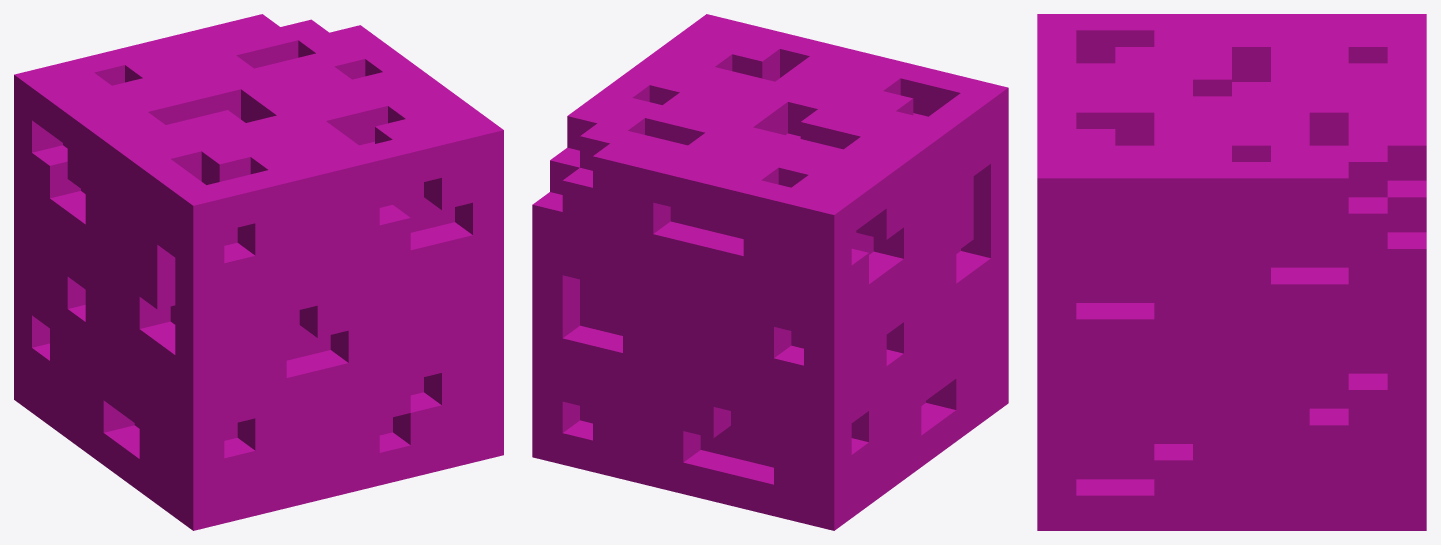
Rendered from corner.glb.
3 views of the same model, side by side, from view 1: azimuth 30°, elevation 25°; view 2: azimuth 150°, elevation 25°; view 3: azimuth 270°, elevation 25° (orthographic). The views are drawn at different scales.
Parts seen in each view (by area): view 1: Cube; view 2: Cube; view 3: Cube.
Part boxes in pixels (left/top/right/bottom): Cube: left=14, top=14, right=503, bottom=530; Cube: left=532, top=14, right=1008, bottom=530; Cube: left=1037, top=14, right=1426, bottom=530.
Size of the model in its own units: 2 by 2 by 2.
1 material, 1 textured.
